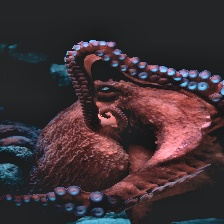octopus: (64, 40, 220, 181)
